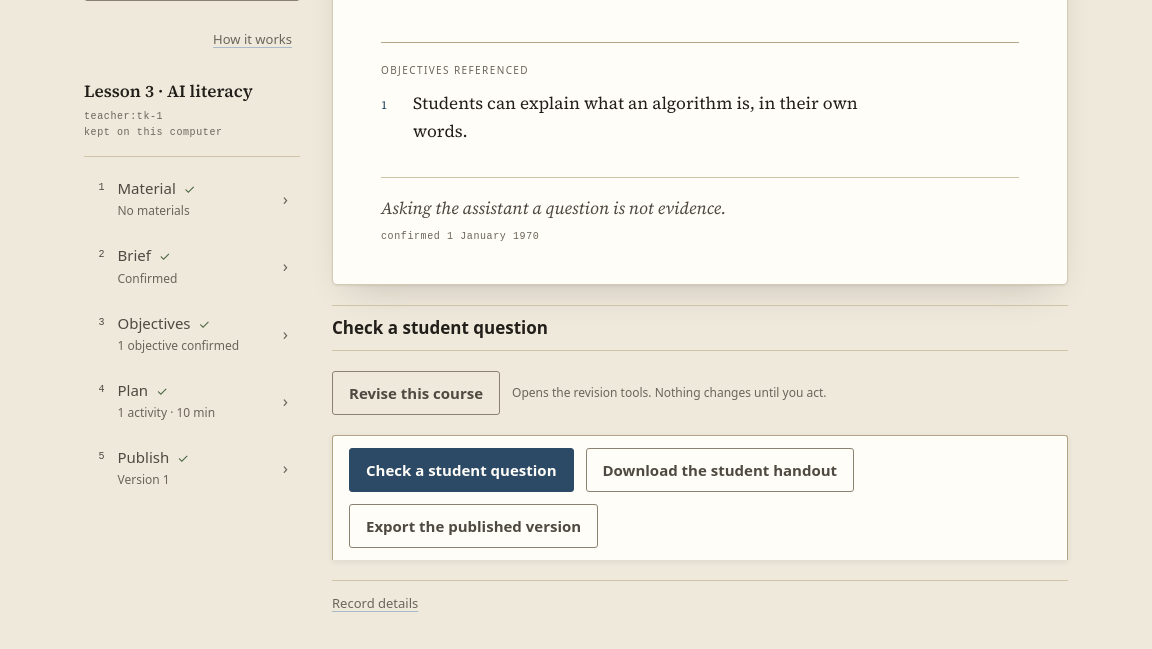
LiveCourse — thin client of the host › with a worker, the same revoke names the plan it will invalidate; an uncited objective has no such warning
The width and height of the screenshot is (1152, 649).
(page scrolled)
Click the button "Revise this course" at (416, 393), box [332,371,500,415]
(page scrolled)
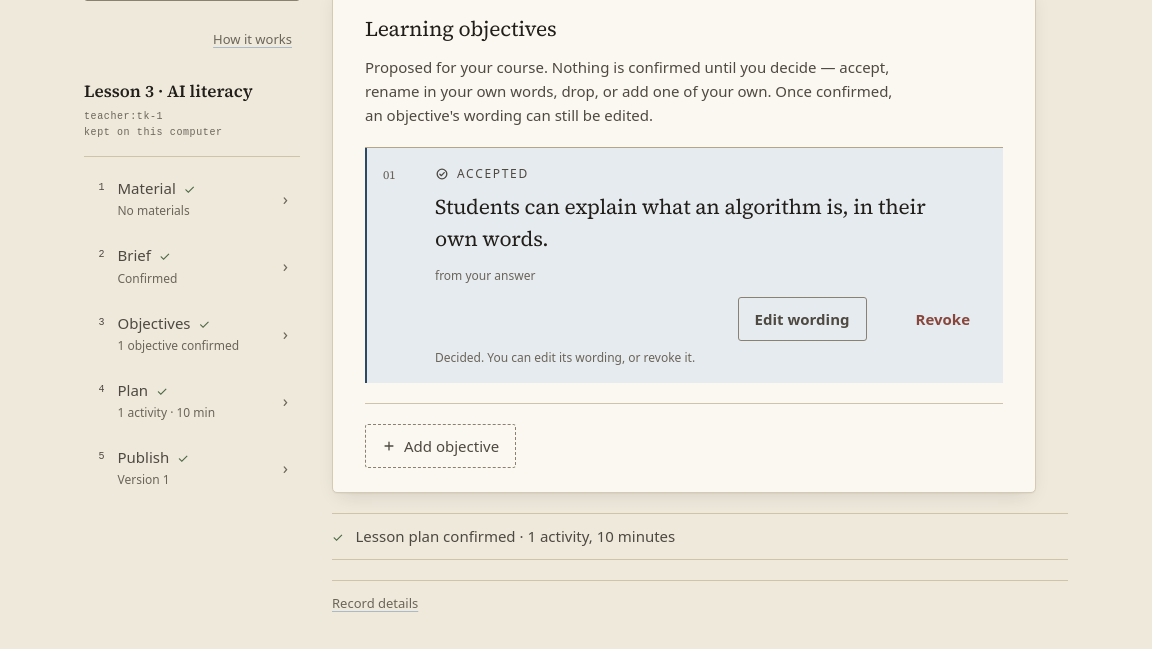
Click the button with aria-label "Revoke your decision on objective 1" at (943, 319), box [898,297,987,341]
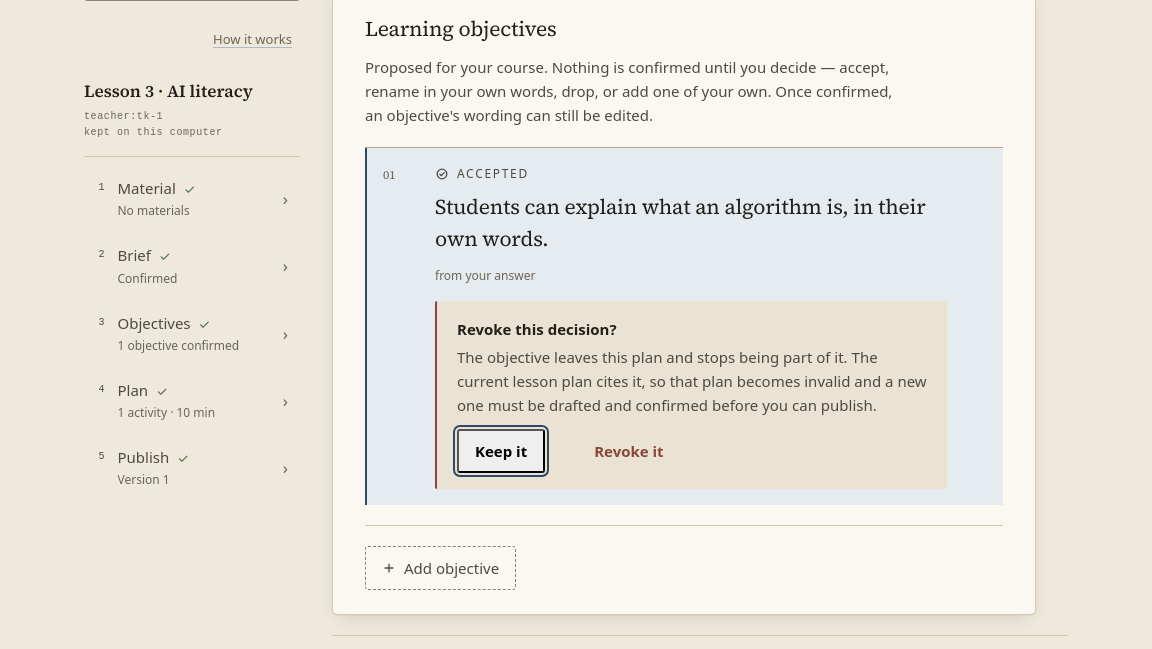
Now the text "a new one must be drafted and confirmed before you can publish" is shown, box [457,347,927,415]
